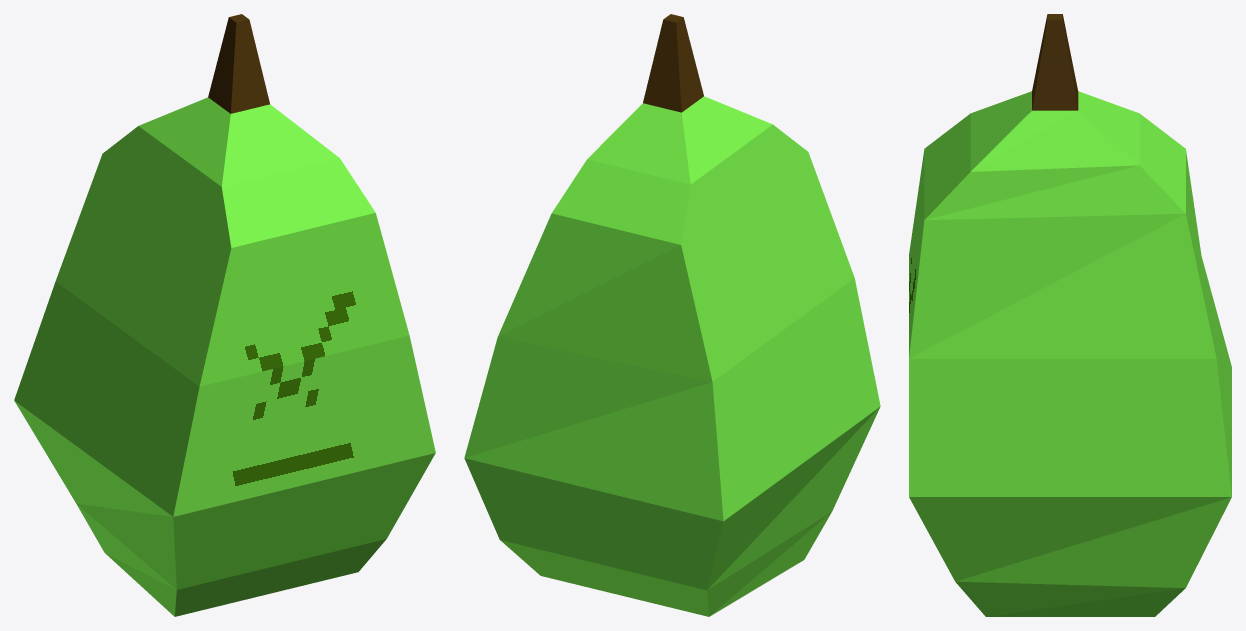
File: Peruda.obj
3 views of the same model, side by side, from view 1: azimuth 30°, elevation 25°; view 2: azimuth 150°, elevation 25°; view 3: azimuth 270°, elevation 25° (orthographic). The views are drawn at different scales.
Visible parts, largest first — view 1: Default; view 2: Default; view 3: Default.
Part boxes in pixels (left/top/right/bottom): Default: left=14, top=14, right=435, bottom=616; Default: left=464, top=14, right=880, bottom=616; Default: left=909, top=14, right=1231, bottom=616.
Size of the model in its own units: 1.25 by 2.56 by 1.31.
Materials: 1 (1 with a texture image).
